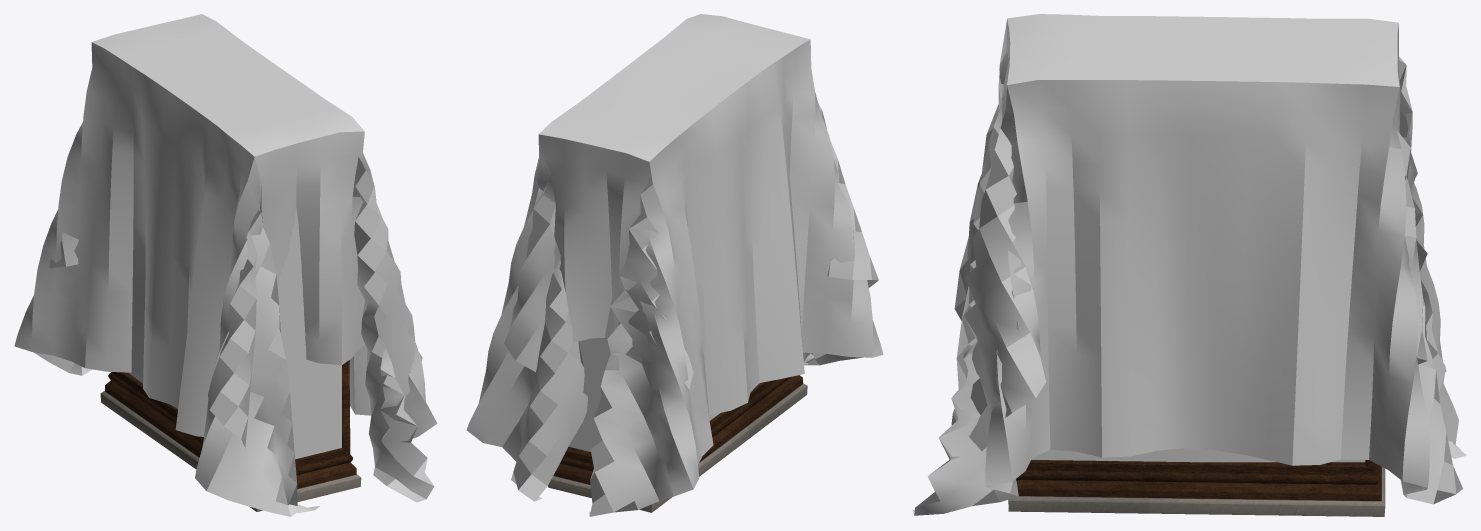
File: Showcases Assetpack 1.fbx
The picture shows the model from 3 angles, left to right: view 1: azimuth 30°, elevation 25°; view 2: azimuth 150°, elevation 25°; view 3: azimuth 270°, elevation 25°; orthographic projection. The views are drawn at different scales.
Visible parts, largest first — view 1: Plane, Glass.ShowcaseTall, ShowcaseGross; view 2: Plane, ShowcaseGross, Glass.ShowcaseTall; view 3: Plane, ShowcaseGross, Glass.ShowcaseTall.
Boxes of the visible parts, box(x1,y1,x2,y2) form: Plane: box(14, 14, 437, 516); Glass.ShowcaseTall: box(128, 208, 341, 459); ShowcaseGross: box(100, 360, 361, 511); Plane: box(466, 14, 883, 516); ShowcaseGross: box(548, 375, 807, 512); Glass.ShowcaseTall: box(568, 298, 759, 451); Plane: box(912, 14, 1466, 515); ShowcaseGross: box(1008, 460, 1385, 516); Glass.ShowcaseTall: box(1031, 448, 1365, 462).
Bounding box in the file's own units: 169 × 251 × 286.
